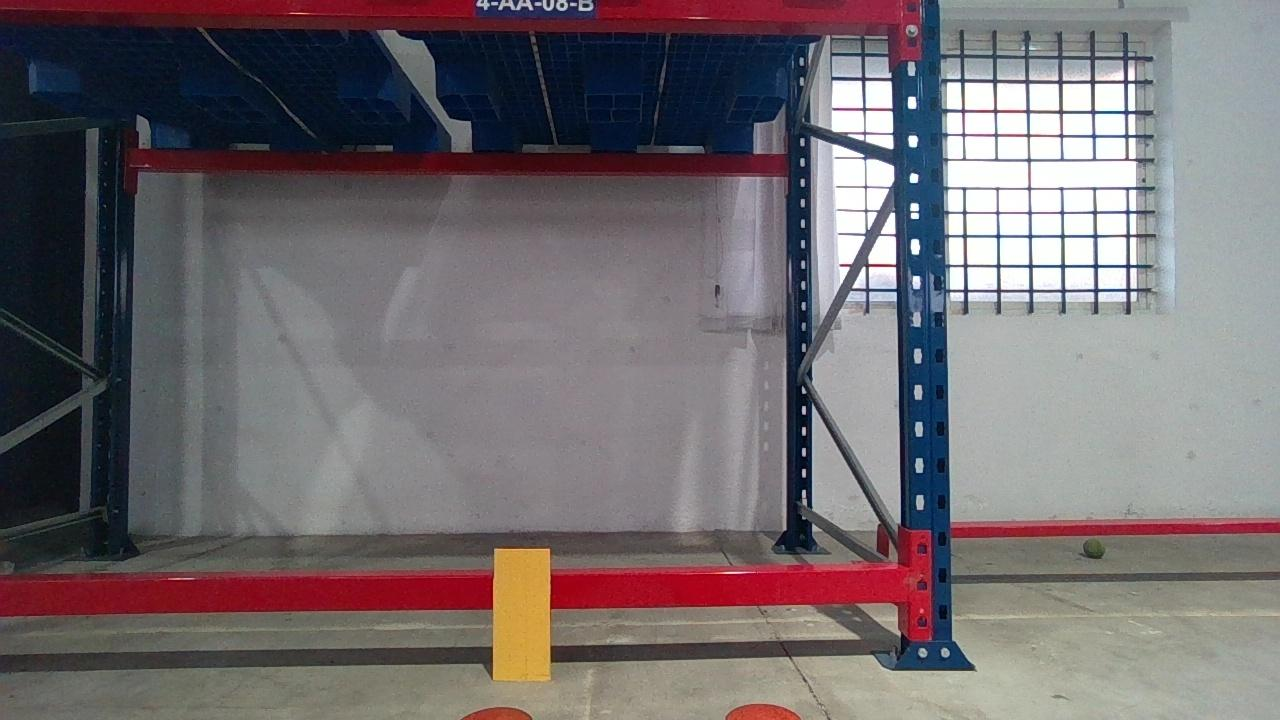h_rack: (2, 563, 908, 616), (5, 0, 908, 27)
orange_strip: (494, 547, 549, 680)
